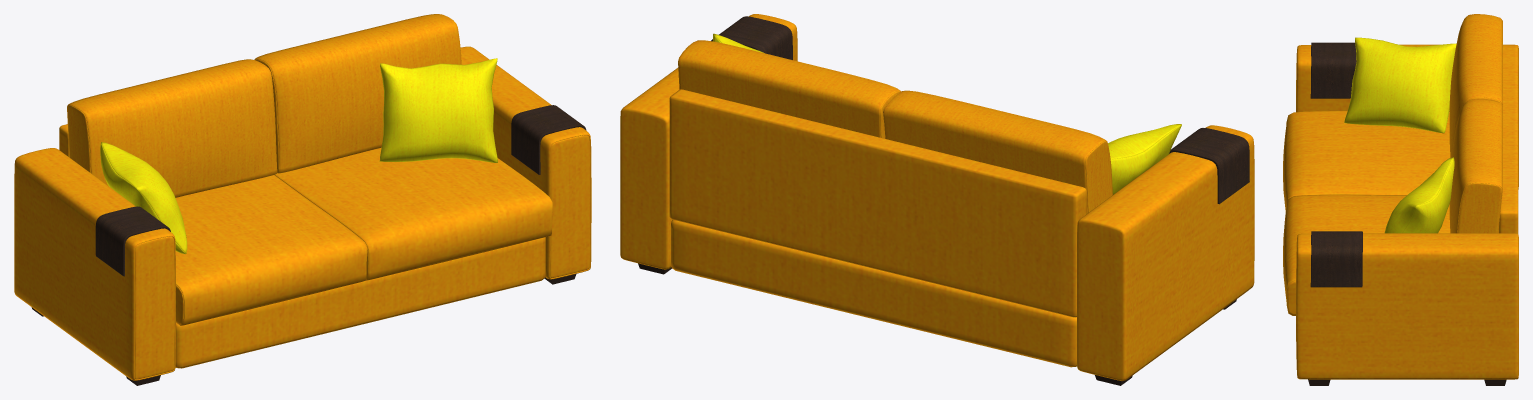
3 renders of one model, left to right at view 1: azimuth 30°, elevation 25°; view 2: azimuth 150°, elevation 25°; view 3: azimuth 270°, elevation 25°, orthographic. The views are drawn at different scales.
Visible parts, largest first — view 1: Pillow Big_Bottom, Pillow Big_Back, Sidewalls, Frame_bottom, pillow_01, Onlay_wood, pillow_02; view 2: Back cover, Sidewalls, Pillow Big_Back, Frame_bottom, Onlay_wood, pillow_02; view 3: Sidewalls, Pillow Big_Bottom, Pillow Big_Back, pillow_02, Onlay_wood, Back cover, pillow_01, Feet.
Boxes of the visible parts, x1,y1,x2,y2 form: Pillow Big_Bottom: (175,147,552,325); Pillow Big_Back: (67,14,461,197); Sidewalls: (14,46,591,380); Frame_bottom: (175,237,545,368); pillow_01: (379,58,497,162); Onlay_wood: (95,105,586,276); pillow_02: (100,142,187,253); Back cover: (669,89,1086,317); Sidewalls: (620,14,1254,380); Pillow Big_Back: (678,40,1112,213); Frame_bottom: (671,219,1076,367); Onlay_wood: (711,16,1249,204); pillow_02: (1108,124,1181,194); Sidewalls: (1296,44,1518,379); Pillow Big_Bottom: (1283,111,1498,315); Pillow Big_Back: (1449,14,1502,233); pillow_02: (1344,37,1456,133); Onlay_wood: (1310,42,1362,287); Back cover: (1499,45,1518,233); pillow_01: (1384,157,1454,233); Feet: (1308,379,1506,385).
Size of the model in its own units: 208 by 87.79 by 98.22.
3 materials, 3 textured.
